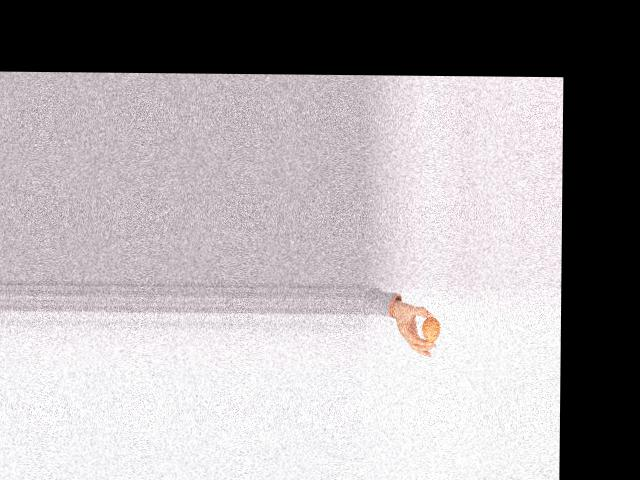egg: (423, 317, 440, 342)
